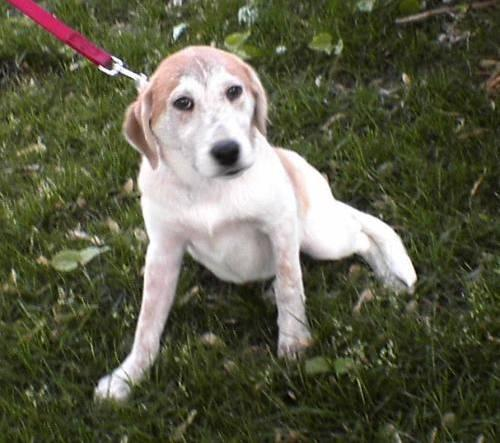dog: (95, 46, 416, 398)
